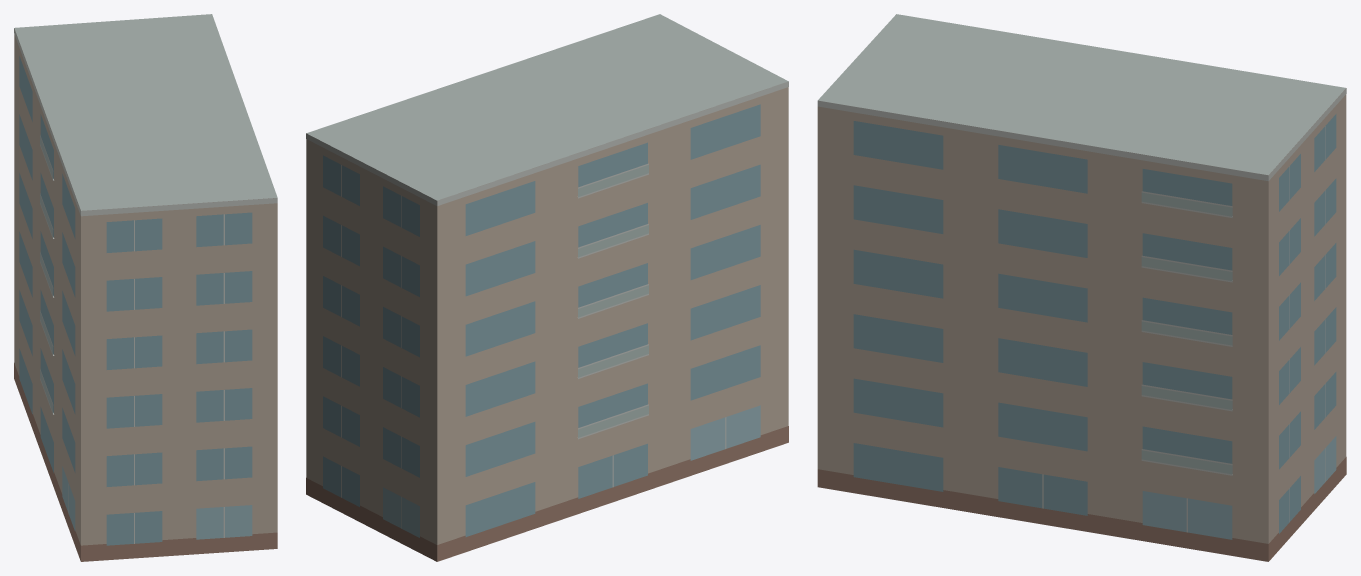
The model's file is survey-upis-32662716.glb.
3 views of the same model, side by side, from view 1: azimuth 30°, elevation 25°; view 2: azimuth 150°, elevation 25°; view 3: azimuth 270°, elevation 25° (orthographic). The views are drawn at different scales.
Visible parts, largest first — view 1: survey-upis-32662716.tmp; view 2: survey-upis-32662716.tmp; view 3: survey-upis-32662716.tmp.
Boxes of the visible parts, left/top/right/bottom form: survey-upis-32662716.tmp: left=14, top=14, right=277, bottom=561; survey-upis-32662716.tmp: left=306, top=14, right=788, bottom=561; survey-upis-32662716.tmp: left=817, top=14, right=1346, bottom=561.
Size of the model in its own units: 14.15 by 15.8 by 19.59.
